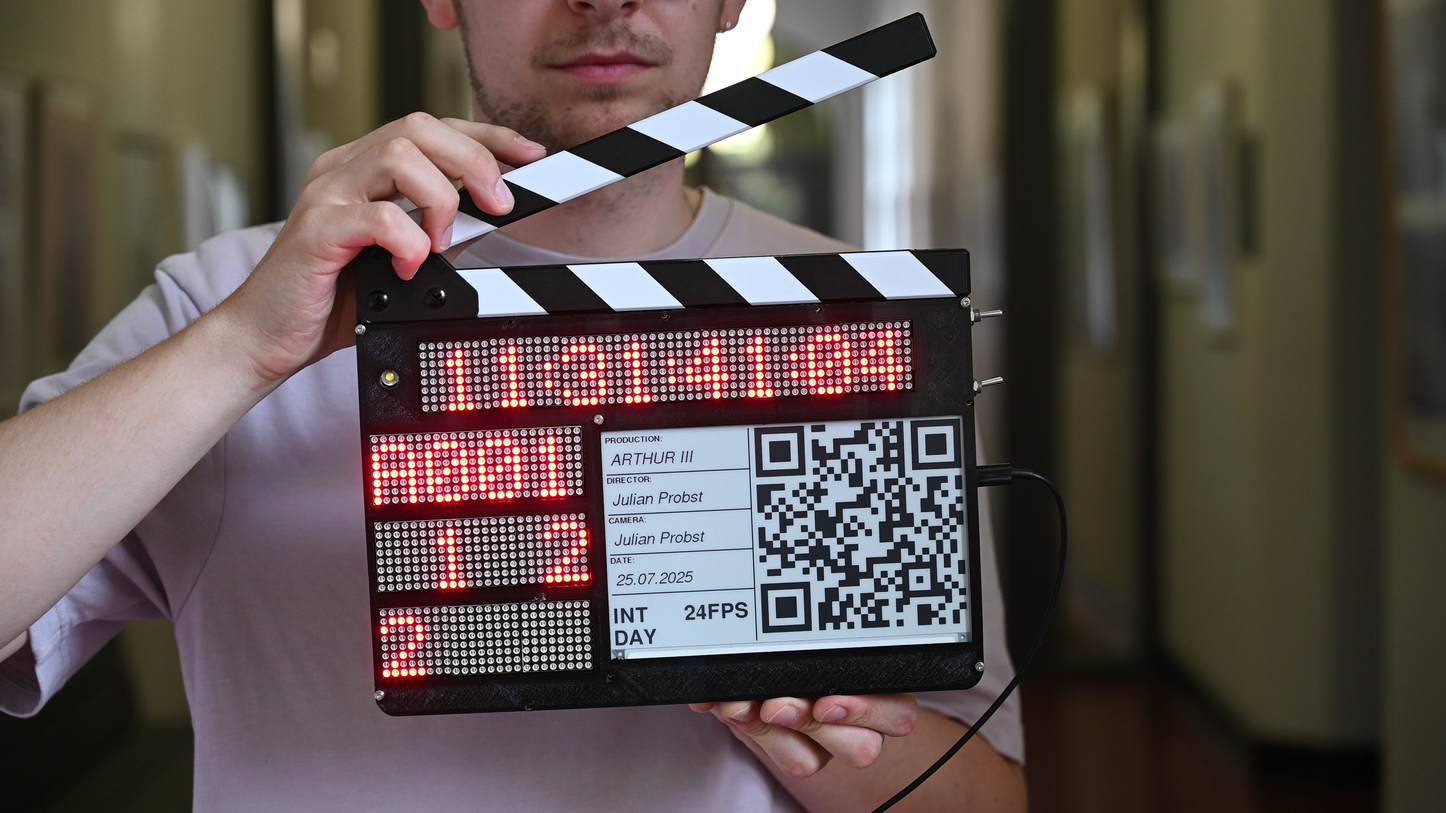ARC-SLATE: (353, 249, 988, 720)
